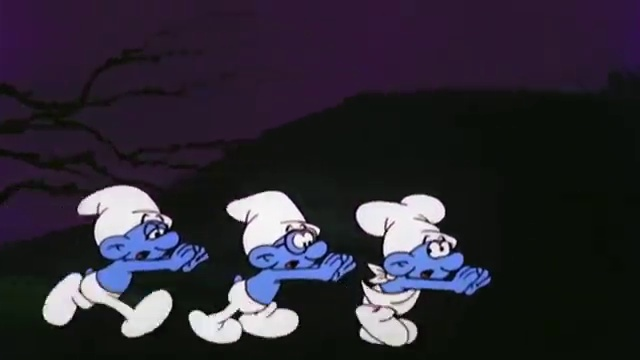smurf: (192, 188, 353, 344), (43, 181, 188, 340), (342, 195, 488, 346)
